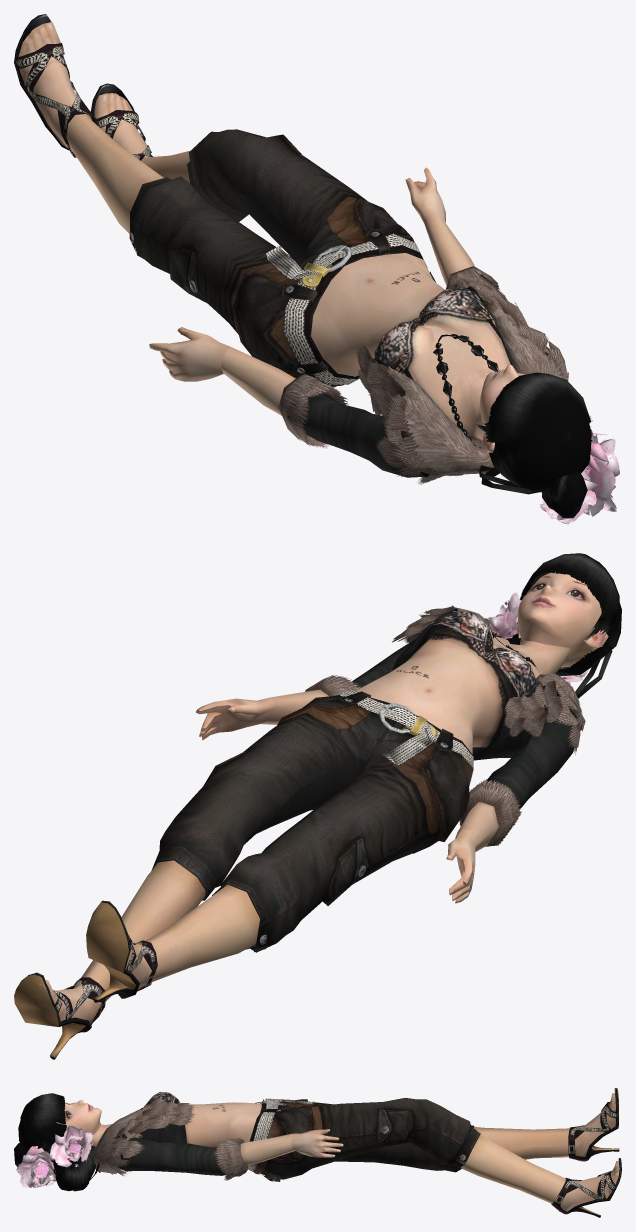
Rendered from girl.obj.
The picture shows the model from 3 angles, top to bottom: view 1: azimuth 30°, elevation 25°; view 2: azimuth 150°, elevation 25°; view 3: azimuth 270°, elevation 25°; orthographic projection. The views are drawn at different scales.
Parts seen in each view (by area): view 1: legs, torso, hair, foot, hand01, hand, head; view 2: legs, torso, foot, head, hair, hand, hand01; view 3: legs, torso, hair, foot, hand, head.
Boxes of the visible parts, x1,y1,x2,y2 form: legs: [66, 104, 435, 387]; torso: [221, 217, 568, 484]; hair: [476, 372, 619, 524]; foot: [14, 14, 152, 160]; hand01: [149, 327, 230, 381]; hand: [405, 167, 445, 223]; head: [479, 365, 524, 452]; legs: [75, 689, 473, 1008]; torso: [261, 605, 585, 851]; foot: [14, 900, 157, 1059]; head: [516, 572, 608, 667]; hair: [485, 553, 621, 698]; hand: [196, 697, 275, 740]; hand01: [446, 829, 475, 903]; legs: [248, 1098, 569, 1203]; torso: [90, 1092, 295, 1180]; hair: [14, 1093, 100, 1191]; foot: [551, 1088, 621, 1217]; hand: [290, 1129, 343, 1157]; head: [56, 1099, 101, 1134].
Bounding box in the file's own units: 0.5294 × 0.3544 × 1.72.
6 materials, 6 textured.
